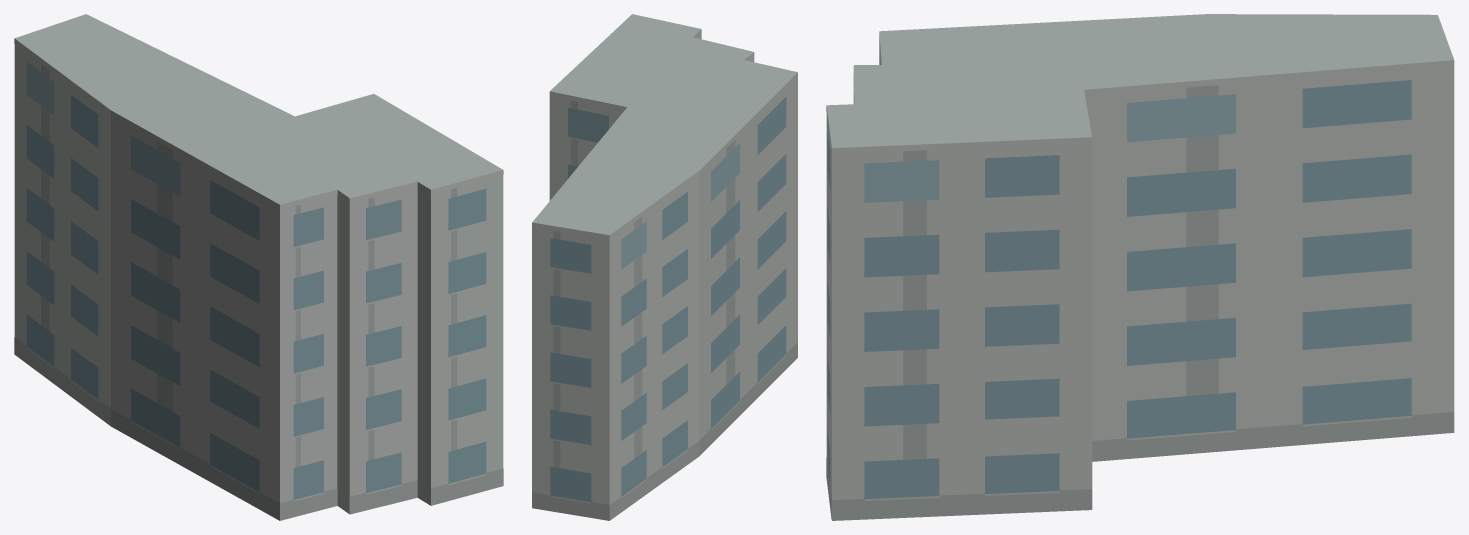
Rendered from survey-upis-32998874.glb.
3 renders of one model, left to right at view 1: azimuth 30°, elevation 25°; view 2: azimuth 150°, elevation 25°; view 3: azimuth 270°, elevation 25°, orthographic. The views are drawn at different scales.
Parts seen in each view (by area): view 1: survey-upis-32998874.tmp; view 2: survey-upis-32998874.tmp; view 3: survey-upis-32998874.tmp.
Boxes of the visible parts, box(x1,y1,x2,y2) form: survey-upis-32998874.tmp: box(14, 14, 503, 520); survey-upis-32998874.tmp: box(532, 14, 797, 520); survey-upis-32998874.tmp: box(826, 14, 1454, 520).
Bounding box in the file's own units: 11.52 × 14.9 × 22.76.
